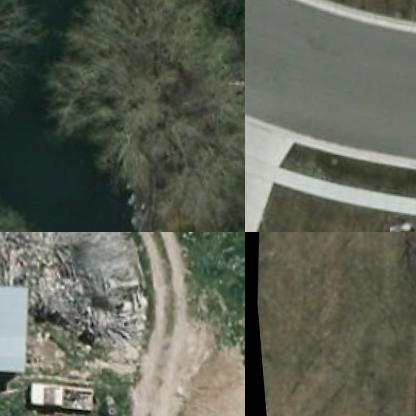pickup: (19, 380, 90, 412)
